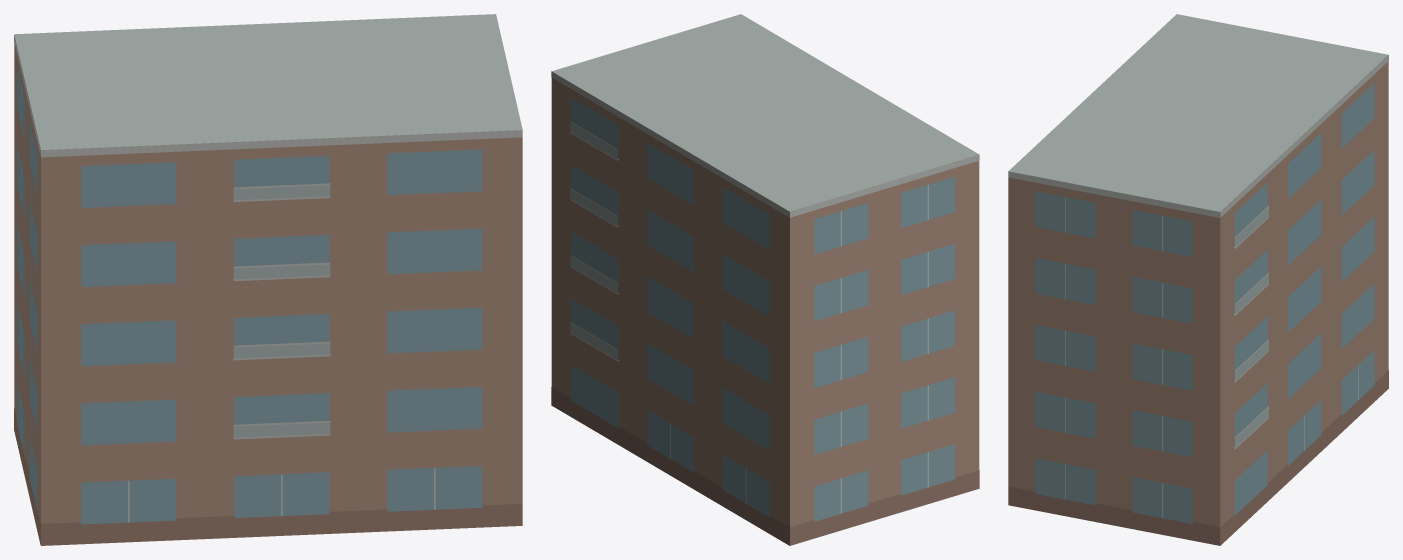
File: survey-upis-33034506.glb
3 views of the same model, side by side, from view 1: azimuth 30°, elevation 25°; view 2: azimuth 150°, elevation 25°; view 3: azimuth 270°, elevation 25° (orthographic). The views are drawn at different scales.
Parts seen in each view (by area): view 1: survey-upis-33034506.tmp; view 2: survey-upis-33034506.tmp; view 3: survey-upis-33034506.tmp.
Boxes of the visible parts, left/top/right/bottom form: survey-upis-33034506.tmp: left=14, top=14, right=522, bottom=545; survey-upis-33034506.tmp: left=551, top=14, right=979, bottom=545; survey-upis-33034506.tmp: left=1008, top=14, right=1388, bottom=545.
Size of the model in its own units: 17.06 by 13.4 by 13.85.
